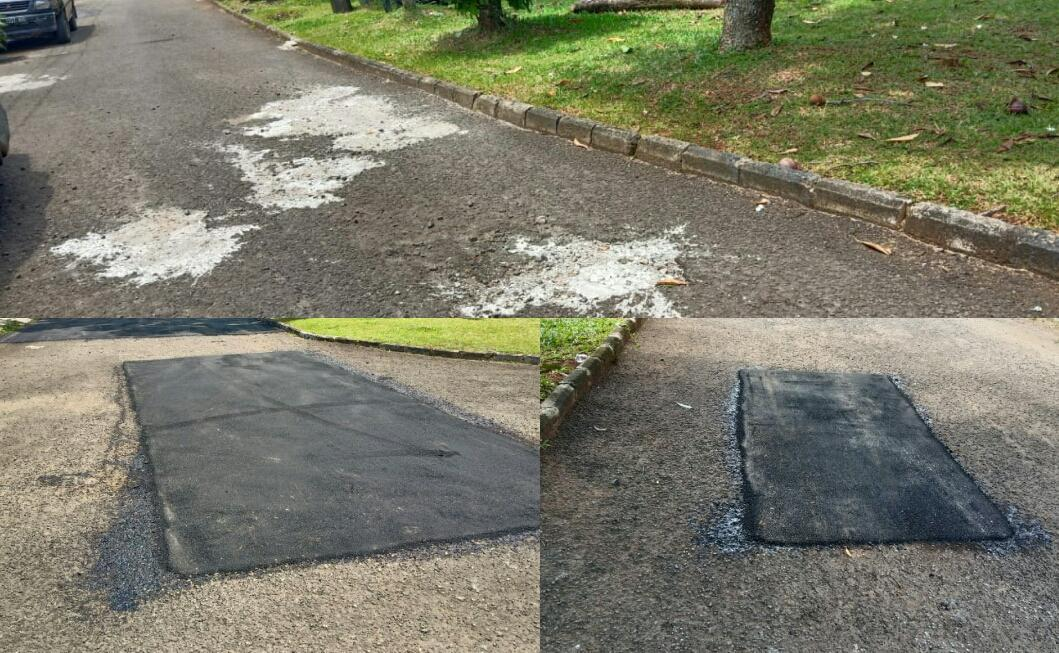Pothole: (59, 59, 458, 284), (455, 195, 701, 318)
